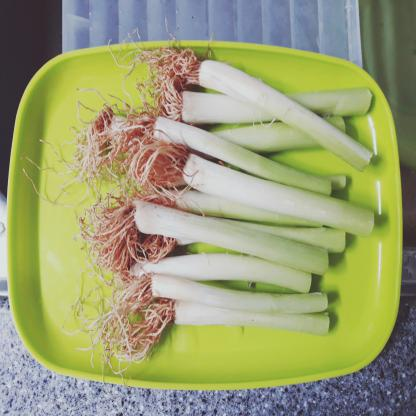green onion: (66, 49, 380, 348)
